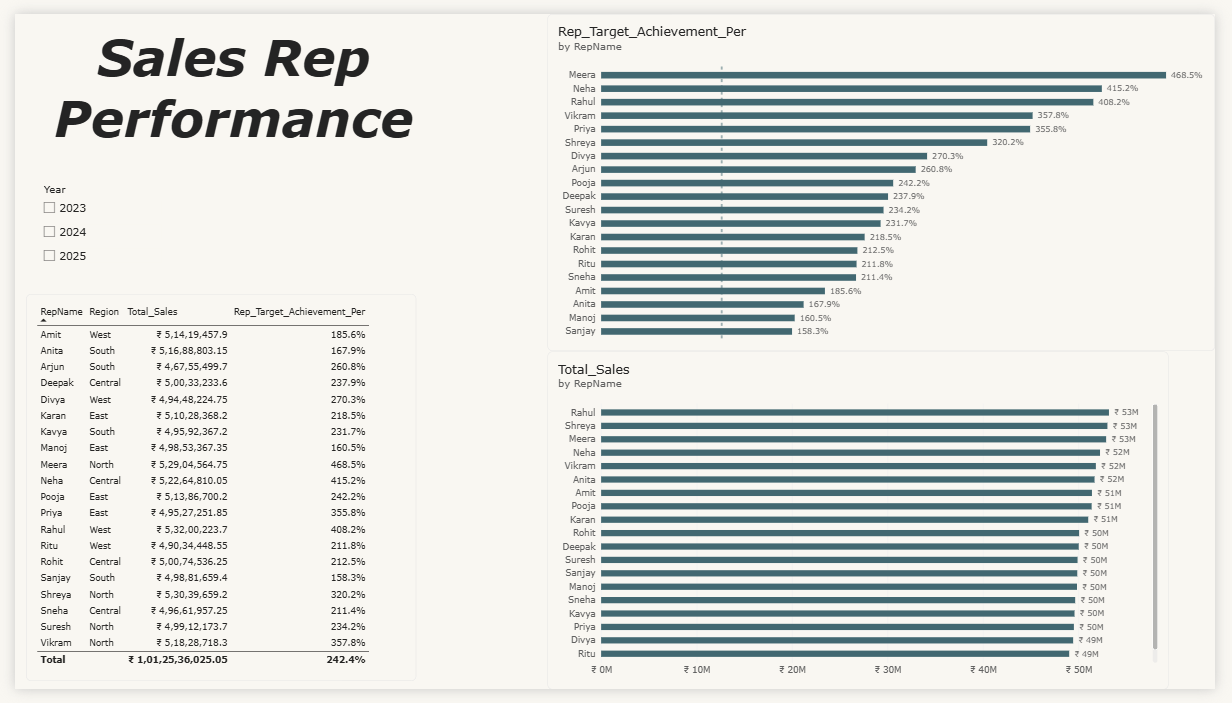

What the dashboard file says about the page in this screenshot:
{"tool":"powerbi","page":{"name":"Sales Rep Performance","canvas":[1920,1080],"ordinal":2},"visuals":[{"type":"clusteredBarChart","fields":{"Category":["Dim_SalesRep.RepName"],"Y":["_Measures.Total_Sales"]},"box":[852.4,539.3,993.5,541.1],"z":0},{"type":"clusteredBarChart","fields":{"Category":["Dim_SalesRep.RepName"],"Y":["_Measures.Rep_Target_Achievement_Per"]},"box":[852.4,0,1067.7,539.3],"z":1000},{"type":"tableEx","fields":{"Values":["Dim_SalesRep.RepName","Dim_SalesRep.Region","_Measures.Total_Sales","_Measures.Rep_Target_Achievement_Per"]},"box":[18.2,448.5,624.3,618.9],"z":2000},{"type":"textbox","box":[38,18,624,214],"z":3000},{"type":"slicer","fields":{"Values":["Dim_Date.Year"]},"box":[38.3,269.9,196,150],"z":3001}]}

Visuals, with their boxes in screenshot pixels (x1, y1, x2, y2), scaled from the page's 1920x1080 canvas onto the 1232x703 screenshot:
clusteredBarChart - Dim_SalesRep.RepName x _Measures.Total_Sales: x1=547, y1=351, x2=1184, y2=702
clusteredBarChart - Dim_SalesRep.RepName x _Measures.Rep_Target_Achievement_Per: x1=547, y1=0, x2=1231, y2=351
tableEx - Dim_SalesRep.RepName x Dim_SalesRep.Region: x1=12, y1=292, x2=412, y2=695
textbox: x1=24, y1=12, x2=425, y2=151
slicer - Dim_Date.Year: x1=25, y1=176, x2=150, y2=273
